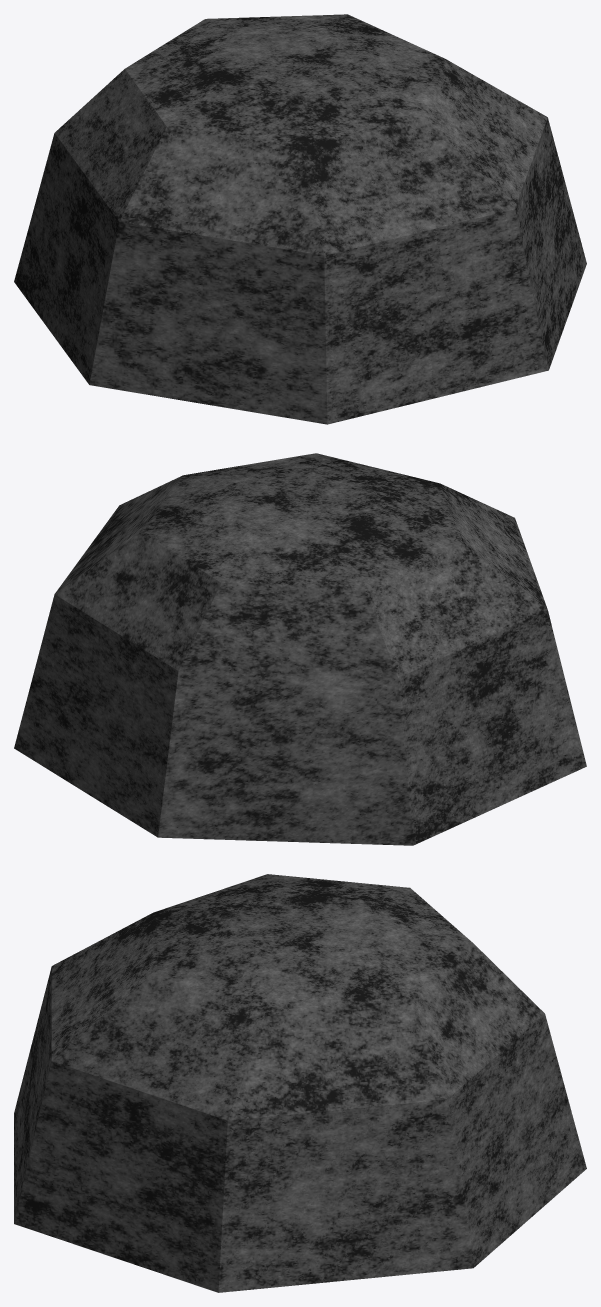
File: BigRock.fbx
3 views of the same model, one above another, from view 1: azimuth 30°, elevation 25°; view 2: azimuth 150°, elevation 25°; view 3: azimuth 270°, elevation 25° (orthographic). The views are drawn at different scales.
Visible parts, largest first — view 1: BigStone; view 2: BigStone; view 3: BigStone.
Part boxes in pixels (box(x1,y1,x2,y2)): BigStone: box(14, 14, 586, 424); BigStone: box(14, 453, 586, 845); BigStone: box(14, 874, 586, 1292).
Size of the model in its own units: 362 by 161 by 353.
Materials: 1 (1 with a texture image).
